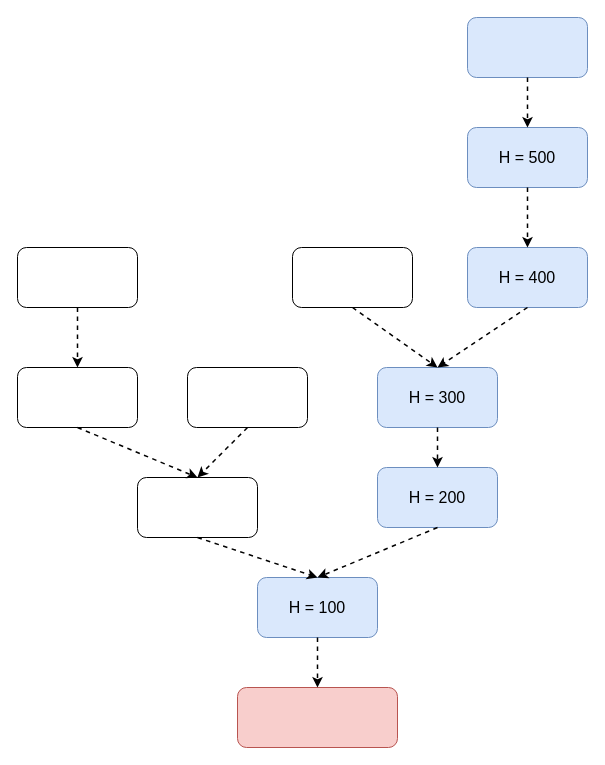
Image size: 605x765. Some labels were removed from this diagram. Here are the shapes that lost their labels. From the top down, the centre of each, then its label:
At (x=527, y=47): "H = 600".
At (x=317, y=717): "Genesis Block".
